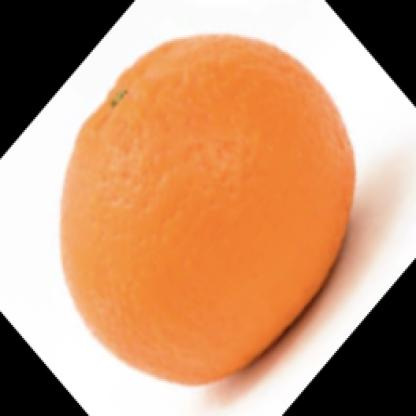fresh: (59, 35, 355, 382)
